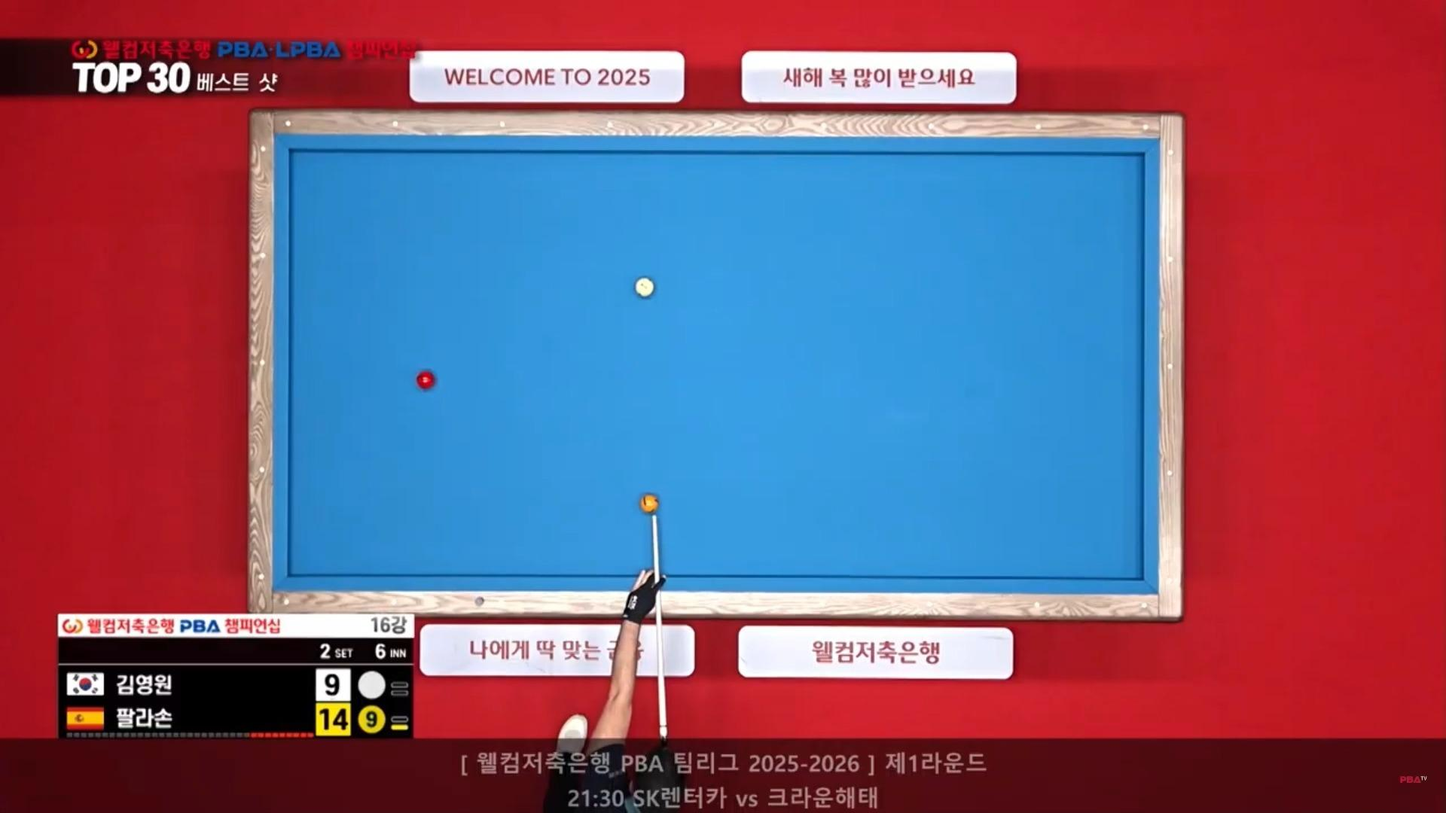Red: (413, 370, 437, 389)
White: (633, 277, 658, 298)
billiard-ball-Yellow: (638, 489, 656, 514)
